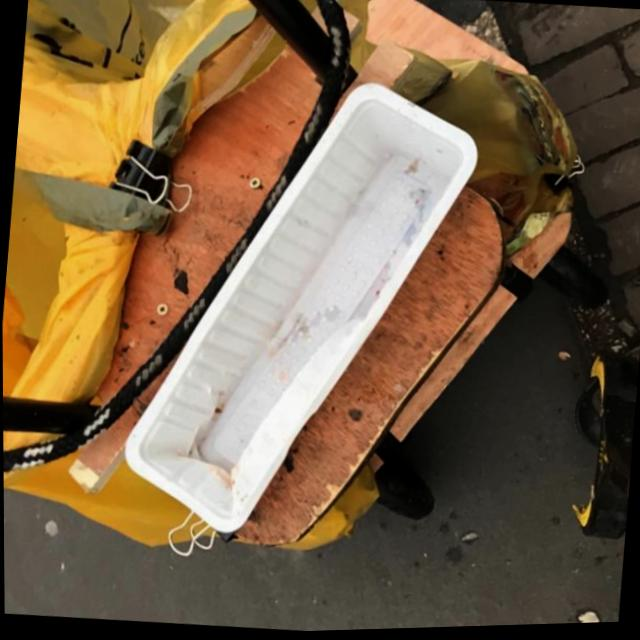Plastic: (112, 58, 489, 559)
